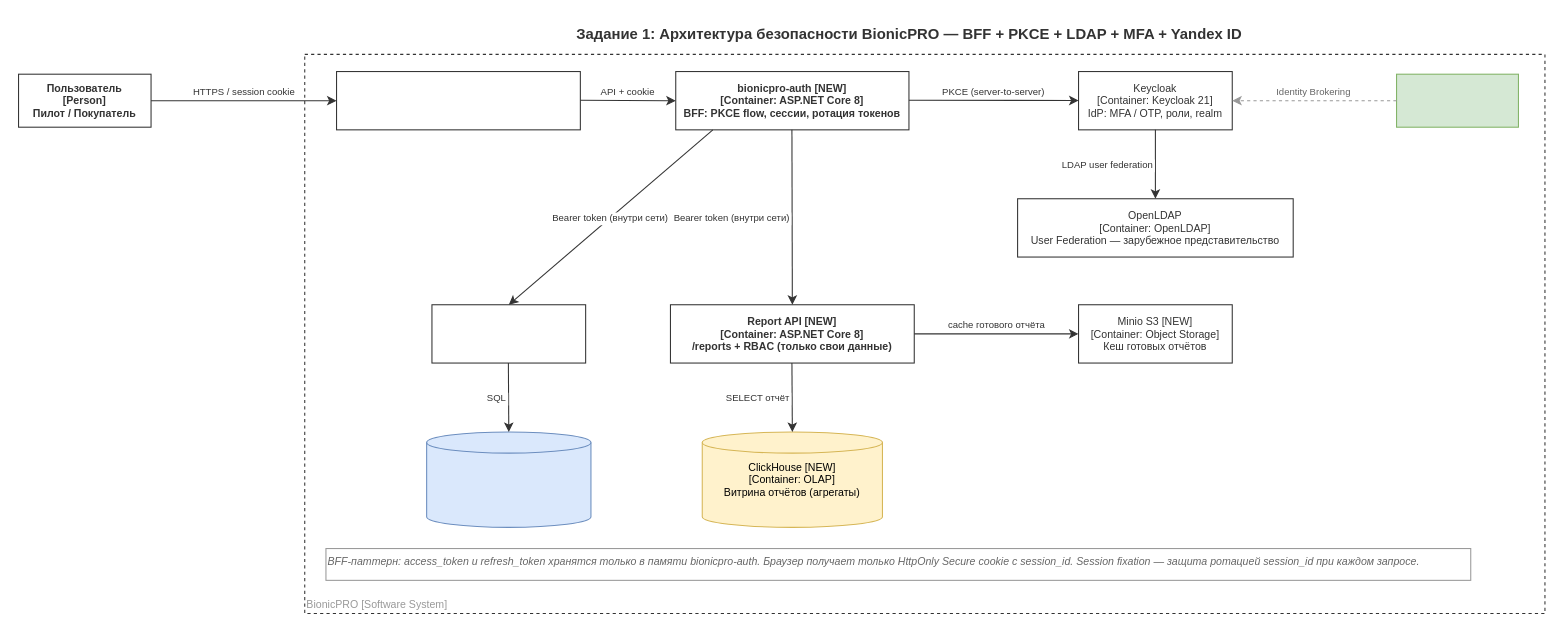
Image size: 1563x632. Some labels were removed from this diagram. The shapes that lost their labels are listed below. From the top down, each one's centre as x and y in pixels, then its label:
the point at 457,100: Frontend [Container: React / Nginx] Только session cookie. Токены не хранит.
the point at 1456,100: Yandex ID [External System] OAuth 2.0 IdP
the point at 508,333: API [Container: Backend] Бизнес-логика протеза
the point at 508,479: CRM DB [Container: PostgreSQL]
